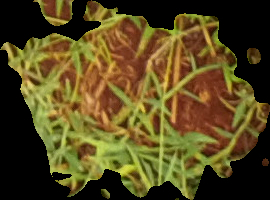grass: (1, 1, 269, 200)
